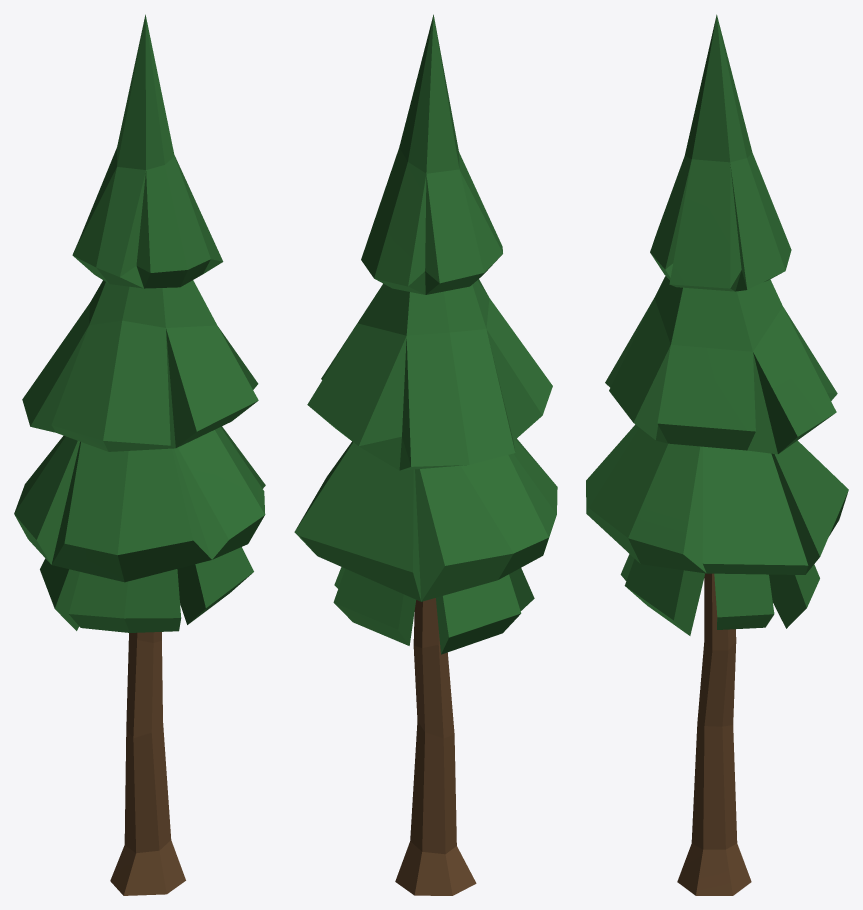
Rendered from tree-forest.glb.
3 views of the same model, side by side, from view 1: azimuth 30°, elevation 25°; view 2: azimuth 150°, elevation 25°; view 3: azimuth 270°, elevation 25° (orthographic).
Parts seen in each view (by area): view 1: tree-forest; view 2: tree-forest; view 3: tree-forest.
Part boxes in pixels (box(x1,y1,x2,y2)): tree-forest: box(14, 14, 265, 895); tree-forest: box(294, 14, 557, 895); tree-forest: box(586, 14, 848, 895).
Bounding box in the file's own units: 2.41 × 8.85 × 2.43.
